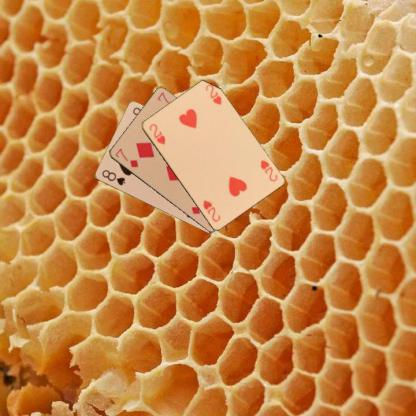2h: (146, 120, 166, 146), (258, 157, 278, 183)
7d: (113, 146, 139, 168)
8s: (99, 167, 126, 187)
